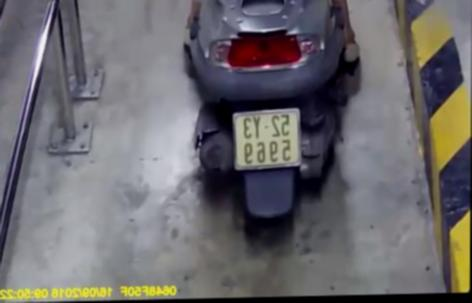License_Plate: (231, 104, 304, 175)
